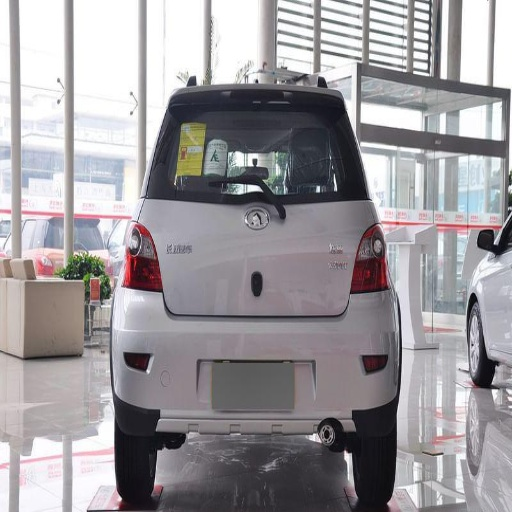back_bumper: (114, 287, 398, 434)
trunk: (144, 193, 373, 316)
